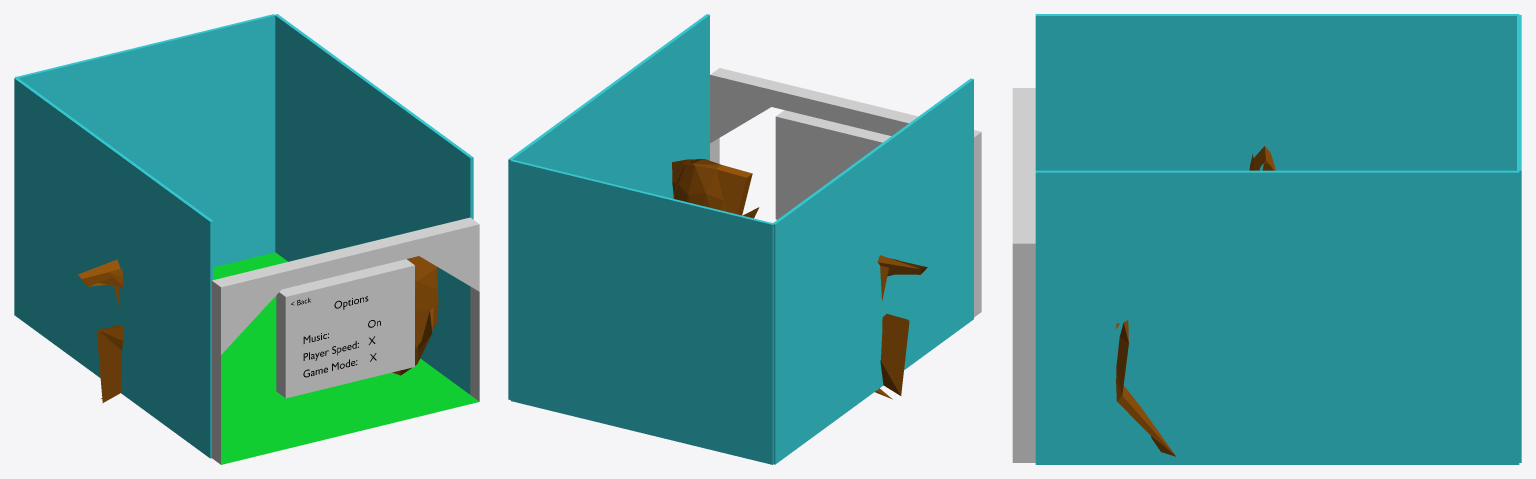
The model's file is game_options.fbx.
3 views of the same model, side by side, from view 1: azimuth 30°, elevation 25°; view 2: azimuth 150°, elevation 25°; view 3: azimuth 270°, elevation 25° (orthographic). The views are drawn at different scales.
Visible parts, largest first — view 1: Left, Right, Background, Floor, Paused Pane, Title_Pane, Triangle_Left, Triangle_Right, Obstacle_left, Obstacle_right, Wall_Left, Wall_Right; view 2: Background, Left, Right, Paused Pane, Title_Pane, Triangle_Right, Obstacle_right, Obstacle_left, Wall_Left, Triangle_Left; view 3: Right, Left, Wall_Right, Triangle_Right, Title_Pane, Background, Obstacle_right, Triangle_Left.
Boxes of the visible parts, x1=… form: Left: x1=14, y1=77, x2=213, y2=458; Right: x1=275, y1=14, x2=473, y2=394; Background: x1=15, y1=14, x2=275, y2=267; Floor: x1=213, y1=252, x2=479, y2=464; Paused Pane: x1=276, y1=259, x2=414, y2=398; Title_Pane: x1=215, y1=218, x2=479, y2=303; Triangle_Left: x1=211, y1=261, x2=301, y2=354; Triangle_Right: x1=390, y1=217, x2=479, y2=291; Obstacle_left: x1=78, y1=259, x2=123, y2=402; Obstacle_right: x1=392, y1=256, x2=438, y2=375; Wall_Left: x1=211, y1=348, x2=220, y2=464; Wall_Right: x1=470, y1=286, x2=479, y2=401; Background: x1=510, y1=159, x2=773, y2=464; Left: x1=773, y1=78, x2=973, y2=464; Right: x1=508, y1=14, x2=709, y2=399; Paused Pane: x1=775, y1=110, x2=891, y2=219; Title_Pane: x1=710, y1=68, x2=981, y2=137; Triangle_Right: x1=710, y1=68, x2=800, y2=143; Obstacle_right: x1=672, y1=159, x2=759, y2=218; Obstacle_left: x1=875, y1=255, x2=927, y2=399; Wall_Left: x1=974, y1=201, x2=981, y2=317; Triangle_Left: x1=890, y1=112, x2=981, y2=205; Right: x1=1035, y1=170, x2=1519, y2=464; Left: x1=1035, y1=14, x2=1519, y2=170; Wall_Right: x1=1012, y1=327, x2=1035, y2=462; Triangle_Right: x1=1012, y1=195, x2=1035, y2=327; Title_Pane: x1=1012, y1=88, x2=1035, y2=264; Background: x1=1517, y1=15, x2=1521, y2=462; Obstacle_right: x1=1116, y1=320, x2=1176, y2=456; Triangle_Left: x1=1012, y1=88, x2=1035, y2=136.
Bounding box in the file's own units: 2022 × 1437 × 2220.
